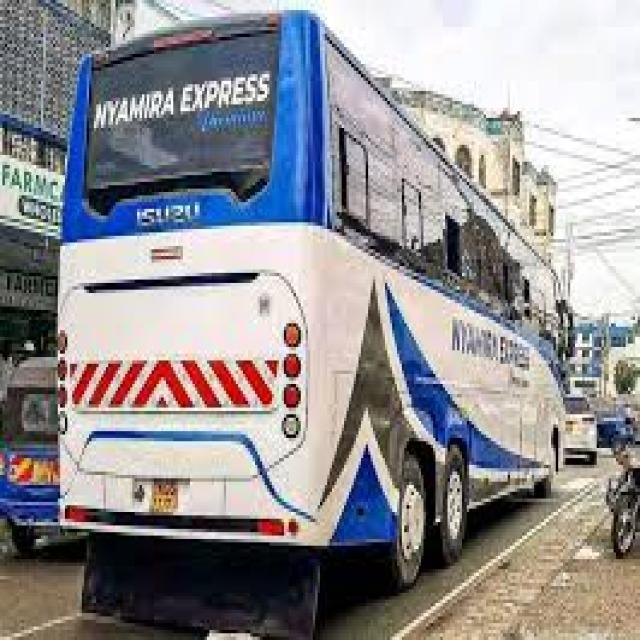bus: (39, 2, 584, 630)
